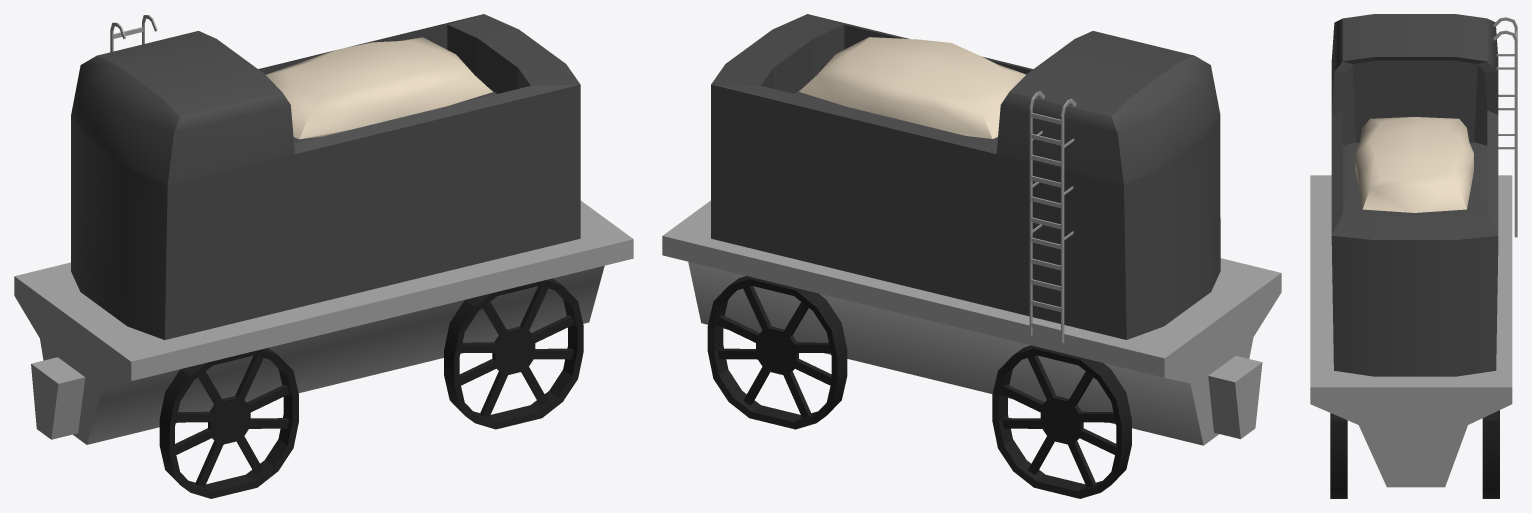
Rendered from Asset_TrainCarriage01Original.fbx.
3 views of the same model, side by side, from view 1: azimuth 30°, elevation 25°; view 2: azimuth 150°, elevation 25°; view 3: azimuth 270°, elevation 25° (orthographic). The views are drawn at different scales.
Visible parts, largest first — view 1: polySurface224; view 2: polySurface224; view 3: polySurface224.
Boxes of the visible parts, bbox=[...] form: polySurface224: bbox=[14, 14, 633, 498]; polySurface224: bbox=[662, 14, 1281, 498]; polySurface224: bbox=[1310, 14, 1517, 498].
Bounding box in the file's own units: 772 × 556 × 303.
